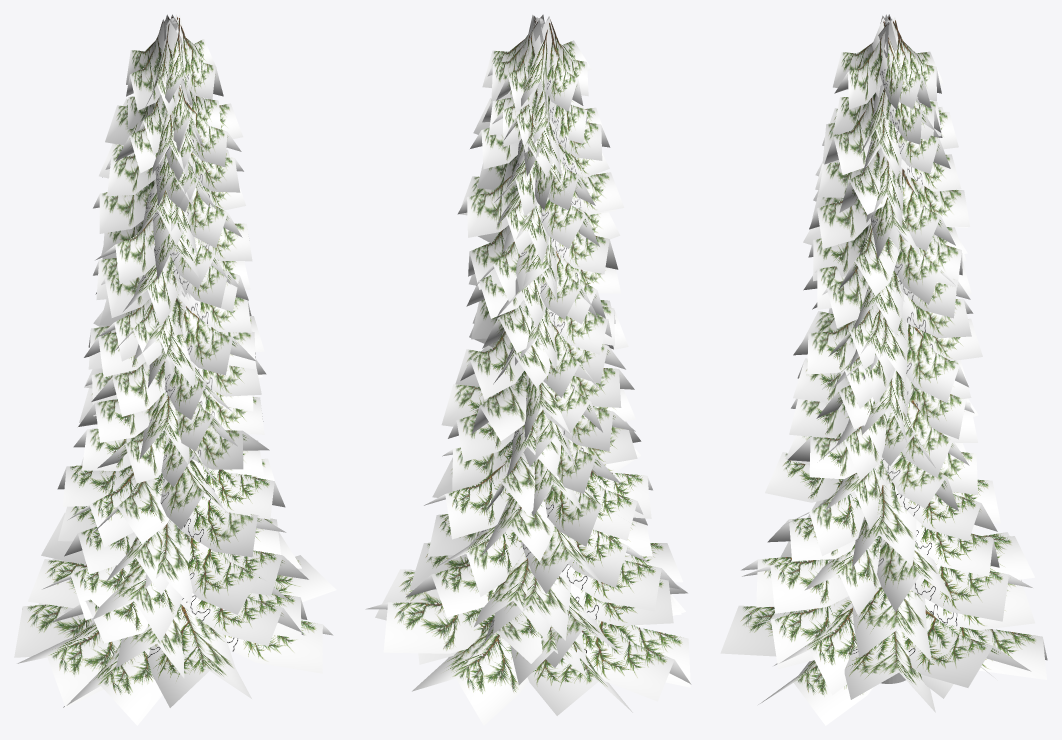
Rendered from Tree.fbx.
3 views of the same model, side by side, from view 1: azimuth 30°, elevation 25°; view 2: azimuth 150°, elevation 25°; view 3: azimuth 270°, elevation 25° (orthographic). The views are drawn at different scales.
Parts seen in each view (by area): view 1: PineTreeBranch_single_color, PineTreeBranch_single_color.006, PineTreeBranch_single_color.015, PineTreeBranch_single_color.007, PineTreeBranch_single_color.087, PineTreeBranch_single_color.079, PineTreeBranch_single_color.001, PineTreeBranch_single_color.016, PineTreeBranch_single_color.014, PineTreeBranch_single_color.005, PineTreeBranch_single_color.039, PineTreeBranch_single_color.022 (+67 smaller); view 2: PineTreeBranch_single_color.004, PineTreeBranch_single_color.003, PineTreeBranch_single_color.006, PineTreeBranch_single_color.018, PineTreeBranch_single_color.013, PineTreeBranch_single_color.005, PineTreeBranch_single_color.082, PineTreeBranch_single_color.077, PineTreeBranch_single_color.010, PineTreeBranch_single_color.012, PineTreeBranch_single_color.020, PineTreeBranch_single_color.019 (+72 smaller); view 3: PineTreeBranch_single_color.003, PineTreeBranch_single_color.010, PineTreeBranch_single_color.009, PineTreeBranch_single_color.002, PineTreeBranch_single_color.008, PineTreeBranch_single_color.079, PineTreeBranch_single_color.004, PineTreeBranch_single_color.082, PineTreeBranch_single_color.017, PineTreeBranch_single_color.072, PineTreeBranch_single_color.018, PineTreeBranch_single_color.034 (+61 smaller).
Boxes of the visible parts, x1,y1,x2,y2 form: PineTreeBranch_single_color: [147, 604, 251, 707]; PineTreeBranch_single_color.006: [17, 622, 121, 707]; PineTreeBranch_single_color.015: [188, 537, 289, 614]; PineTreeBranch_single_color.007: [63, 643, 162, 725]; PineTreeBranch_single_color.087: [176, 496, 286, 557]; PineTreeBranch_single_color.079: [181, 593, 304, 646]; PineTreeBranch_single_color.001: [223, 620, 333, 673]; PineTreeBranch_single_color.016: [192, 459, 285, 519]; PineTreeBranch_single_color.014: [92, 561, 182, 642]; PineTreeBranch_single_color.005: [14, 604, 94, 657]; PineTreeBranch_single_color.039: [182, 306, 256, 375]; PineTreeBranch_single_color.022: [93, 473, 169, 543]; PineTreeBranch_single_color.004: [412, 626, 528, 725]; PineTreeBranch_single_color.003: [365, 602, 494, 653]; PineTreeBranch_single_color.006: [582, 619, 691, 701]; PineTreeBranch_single_color.018: [424, 457, 511, 539]; PineTreeBranch_single_color.013: [559, 560, 680, 611]; PineTreeBranch_single_color.005: [527, 642, 632, 715]; PineTreeBranch_single_color.082: [438, 526, 523, 596]; PineTreeBranch_single_color.077: [570, 579, 687, 625]; PineTreeBranch_single_color.010: [405, 563, 497, 617]; PineTreeBranch_single_color.012: [493, 570, 571, 640]; PineTreeBranch_single_color.020: [544, 483, 618, 546]; PineTreeBranch_single_color.019: [482, 495, 554, 561]; PineTreeBranch_single_color.003: [904, 609, 1031, 687]; PineTreeBranch_single_color.010: [911, 561, 1032, 621]; PineTreeBranch_single_color.009: [852, 583, 931, 661]; PineTreeBranch_single_color.002: [844, 628, 935, 712]; PineTreeBranch_single_color.008: [742, 559, 848, 613]; PineTreeBranch_single_color.079: [746, 596, 851, 668]; PineTreeBranch_single_color.004: [943, 623, 1047, 679]; PineTreeBranch_single_color.082: [915, 520, 999, 576]; PineTreeBranch_single_color.017: [852, 482, 916, 566]; PineTreeBranch_single_color.072: [774, 602, 856, 695]; PineTreeBranch_single_color.018: [895, 487, 997, 541]; PineTreeBranch_single_color.034: [906, 322, 968, 402].
Bounding box in the file's own units: 3.72 × 8.16 × 3.66.
